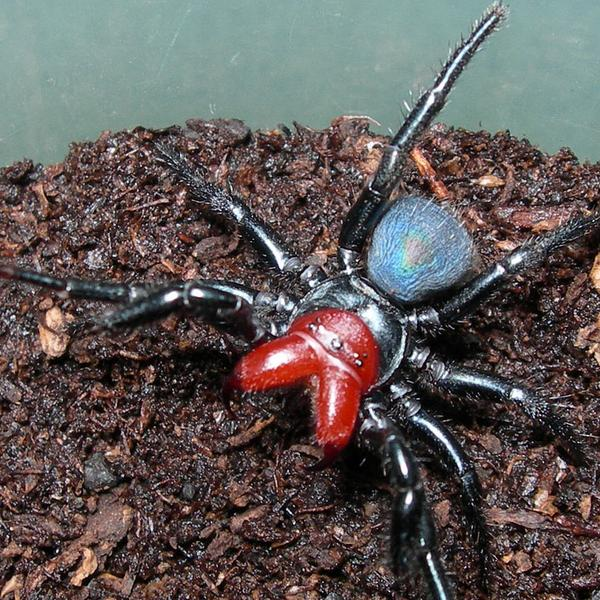Red Headed Mouse Spider: (61, 39, 582, 555)
